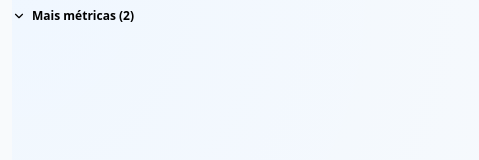
Test: DetalhamentoKpiStrip › renders an em dash instead of crashing when value is null
The image size is (479, 160).
Click the button "Mais métricas (2)" at (73, 16), box [12, 8, 134, 24]
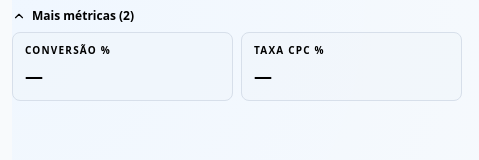
Expected: the text "Conversão %" is shown, [25, 43, 111, 57]
Expected: the text "—" is shown 2 times, [25, 64, 43, 88]; [254, 64, 272, 88]
